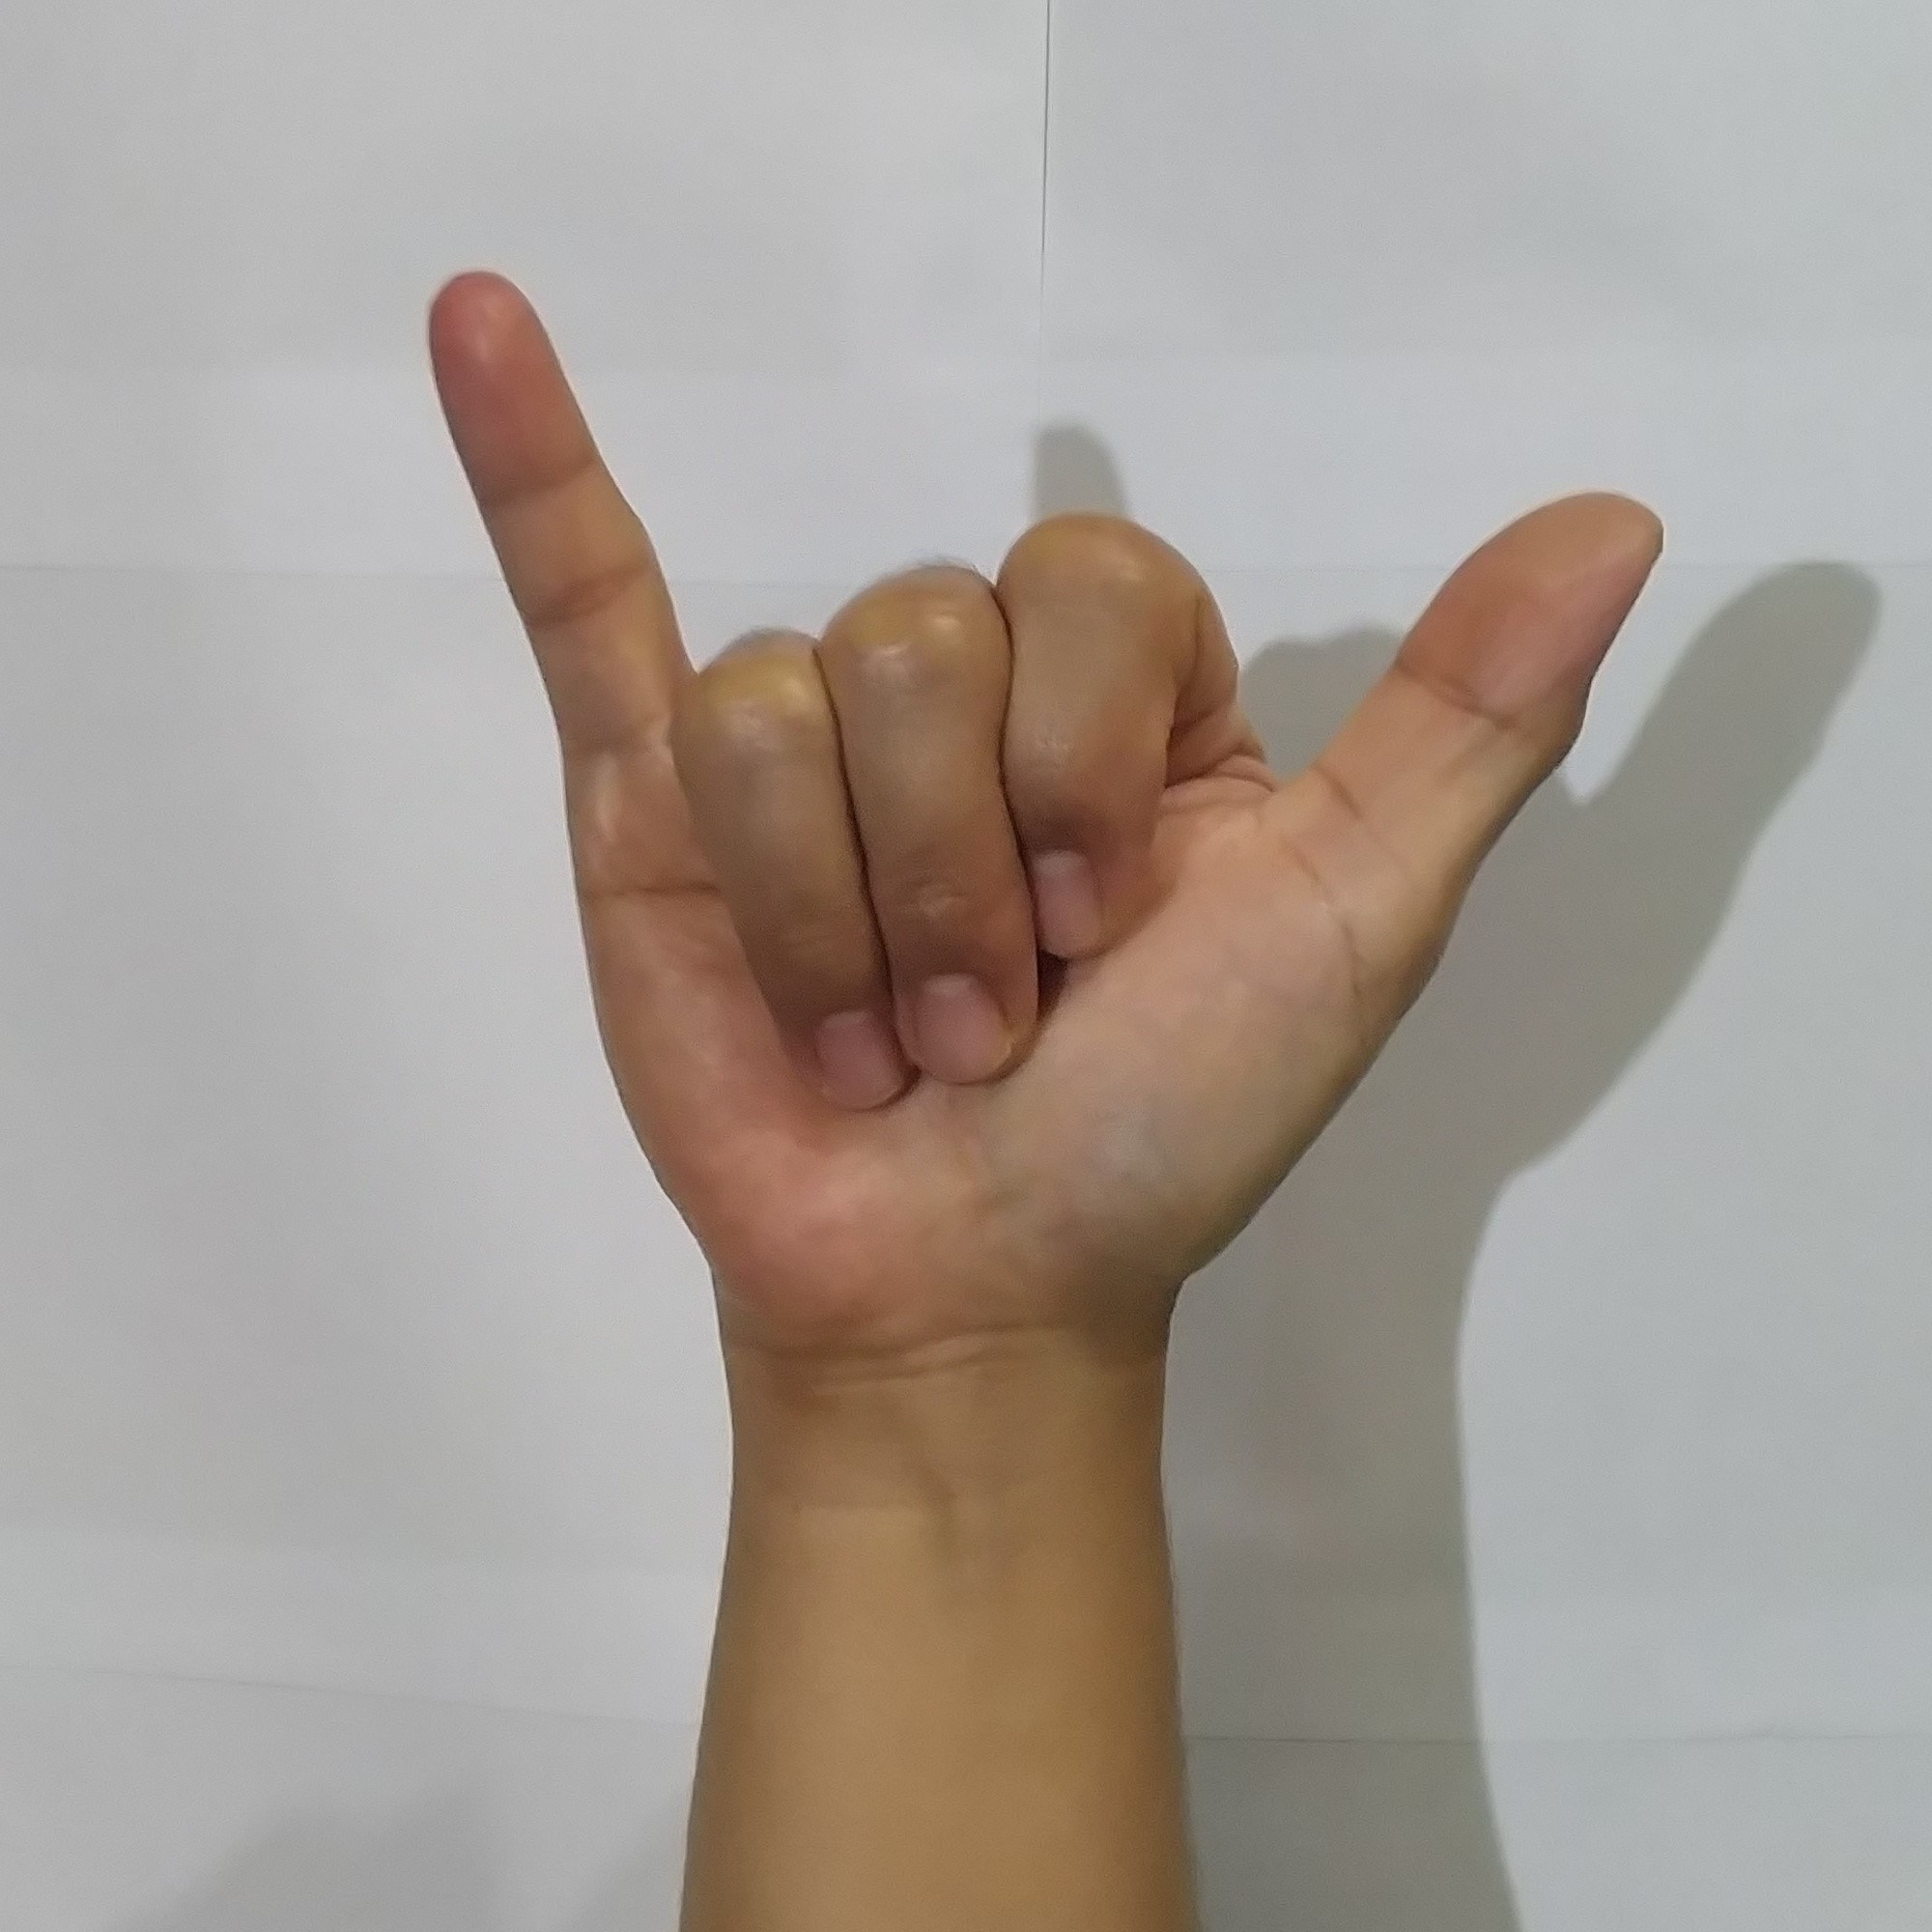Y: (398, 235, 1688, 1352)
